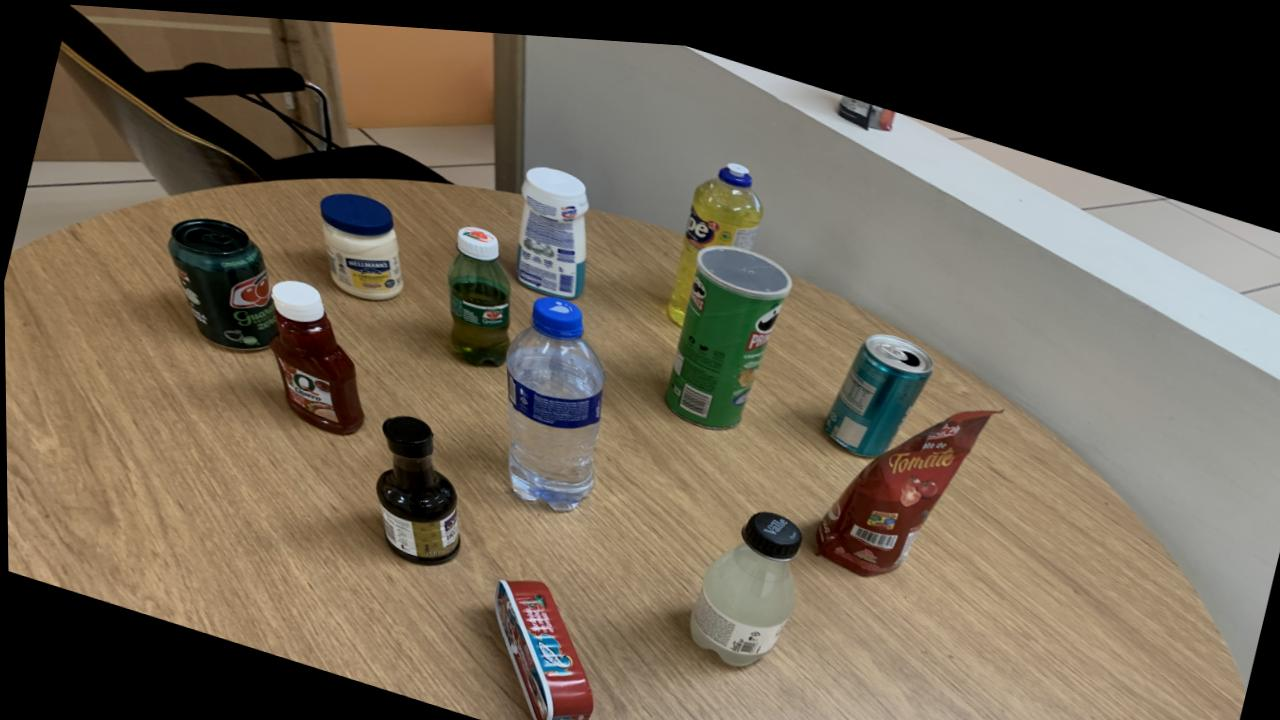Cleaner-Cleanup_Items: (515, 159, 588, 291), (446, 220, 511, 359)
Detergent-Cleanup_Items: (666, 152, 764, 316)
English_Sauce-Pantry_Items: (374, 410, 459, 560)
Guarana-Drinks: (446, 220, 511, 359)
Guarana_Can-Drinks: (166, 216, 277, 348)
Ketchup-Pantry_Items: (270, 276, 363, 430)
Mayonnaise-Pantry_Items: (319, 189, 403, 296)
Pringles-Snacks: (664, 235, 792, 419)
Soda-Drinks: (688, 501, 801, 656)
Tea-Drinks: (822, 321, 933, 445)
Tomato_Sauce-Pantry_Items: (815, 396, 998, 565)
Tuna_Can-Pantry_Items: (492, 573, 592, 720)
Water_Bottle-Drinks: (504, 289, 604, 503)
